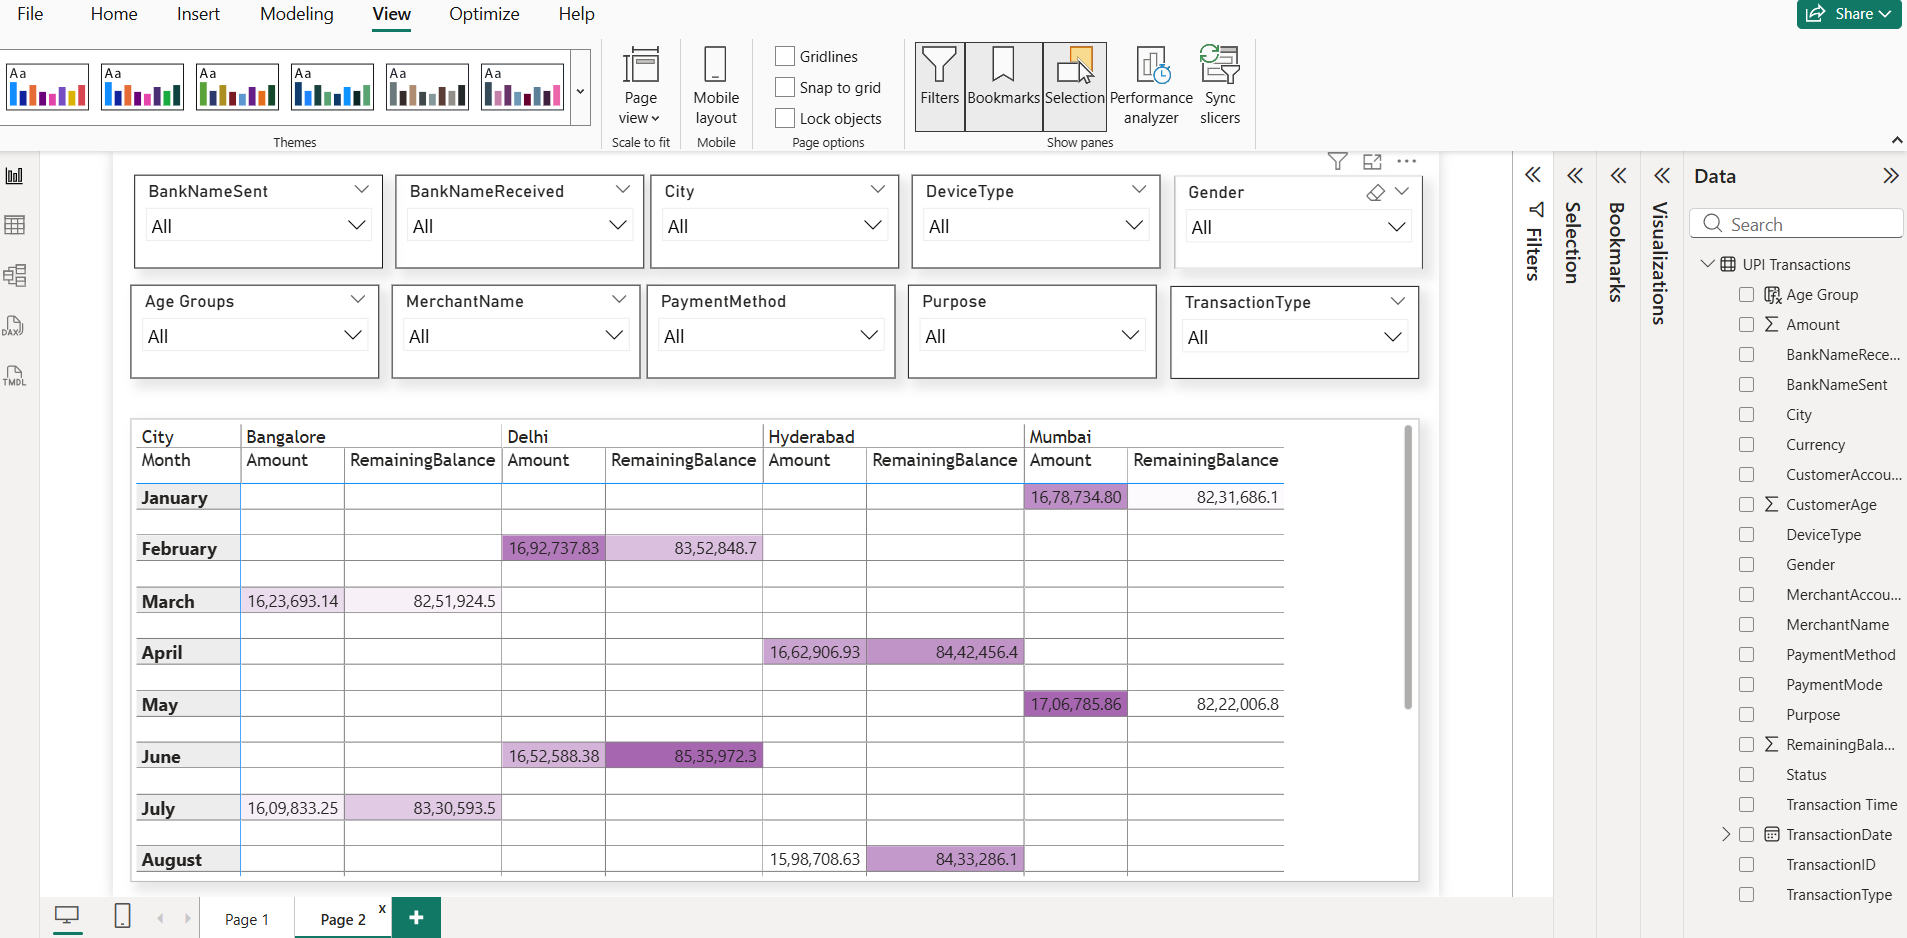

The dashboard page shown, as its layout file describes it:
{"tool":"powerbi","page":{"name":" Page 2","canvas":[1280,720],"ordinal":1},"visuals":[{"type":"slicer","fields":{"Values":["UPI Transactions.Gender"]},"box":[1024.3,24.1,240.1,89.3],"z":0},{"type":"slicer","fields":{"Values":["UPI Transactions.BankNameReceived"]},"box":[272.7,22.9,240.1,90.5],"z":1000},{"type":"slicer","fields":{"Values":["UPI Transactions.City"]},"box":[518.8,22.9,240.1,90.5],"z":2000},{"type":"slicer","fields":{"Values":["UPI Transactions.DeviceType"]},"box":[770.9,22.9,240.1,90.5],"z":3000},{"type":"slicer","fields":{"Values":["UPI Transaction.BankNameSent"]},"box":[20.5,22.9,240.1,90.5],"z":4000},{"type":"slicer","fields":{"Values":["UPI Transactions.TransactionType"]},"box":[1020.8,130.6,240.1,89.3],"z":5000},{"type":"slicer","fields":{"Values":["UPI Transactions.MerchantName"]},"box":[269.1,129.4,240.1,90.5],"z":6000},{"type":"slicer","fields":{"Values":["UPI Transactions.PaymentMethod"]},"box":[515.3,129.4,240.1,90.5],"z":7000},{"type":"slicer","fields":{"Values":["UPI Transactions.Purpose"]},"box":[767.4,129.4,240.1,90.5],"z":8000},{"type":"slicer","fields":{"Values":["UPI Transactions.Age Group"]},"box":[17,129.4,240.1,90.5],"z":9000},{"type":"pivotTable","fields":{"Values":["Sum(UPI Transactions.Amount)","Sum(UPI Transactions.RemainingBalance)"],"Rows":["UPI Transactions.TransactionDate.Variation.Date Hierarchy.Month"],"Columns":["UPI Transactions.City","UPI Transactions.Currency"]},"box":[16.9,258.2,1243.8,447.6],"z":10000}]}

Visuals, with their boxes on the page's 1280x720 design canvas (x1, y1, x2, y2). These are canvas units, not pixel positions in the 1907x938 screenshot, which may show the page scaled, cropped or inside an application window:
slicer - UPI Transactions.Gender: region(1024, 24, 1264, 113)
slicer - UPI Transactions.BankNameReceived: region(273, 23, 513, 113)
slicer - UPI Transactions.City: region(519, 23, 759, 113)
slicer - UPI Transactions.DeviceType: region(771, 23, 1011, 113)
slicer - UPI Transaction.BankNameSent: region(20, 23, 261, 113)
slicer - UPI Transactions.TransactionType: region(1021, 131, 1261, 220)
slicer - UPI Transactions.MerchantName: region(269, 129, 509, 220)
slicer - UPI Transactions.PaymentMethod: region(515, 129, 755, 220)
slicer - UPI Transactions.Purpose: region(767, 129, 1008, 220)
slicer - UPI Transactions.Age Group: region(17, 129, 257, 220)
pivotTable - Sum(UPI Transactions.Amount) x Sum(UPI Transactions.RemainingBalance): region(17, 258, 1261, 706)
